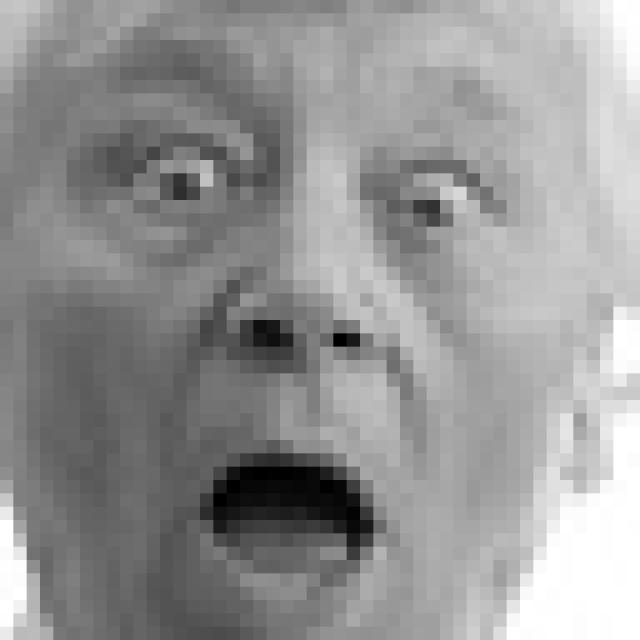surprise: (70, 35, 526, 592)
